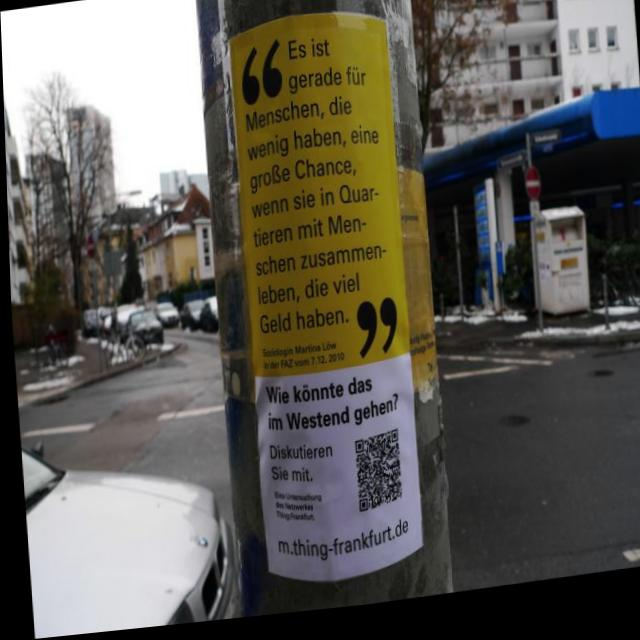qrcode: (352, 437, 399, 518)
